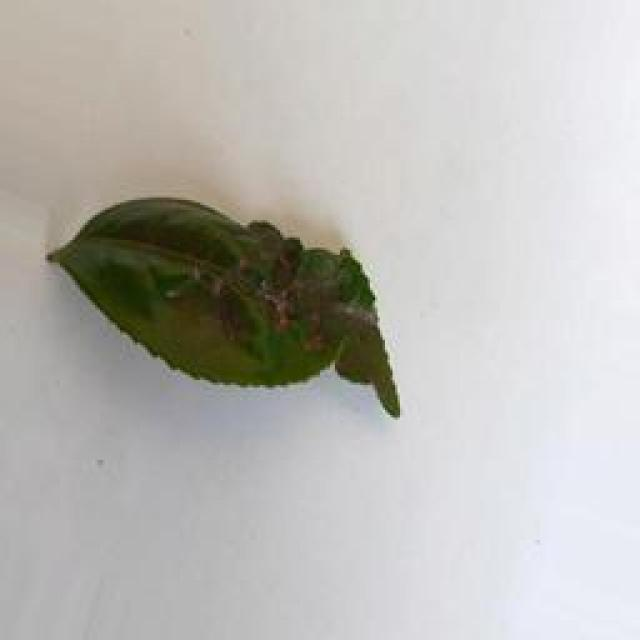Helopeltis: (46, 190, 408, 432)
